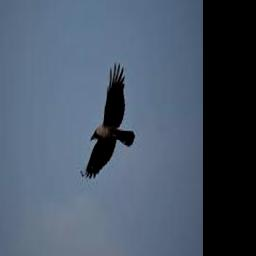Crow: (86, 62, 135, 179)
